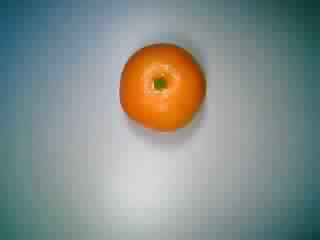orange: (115, 41, 210, 137)
